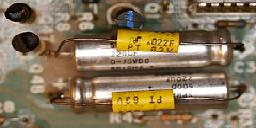Electrolytic-Capacitor: (52, 22, 247, 68), (51, 88, 249, 119)
